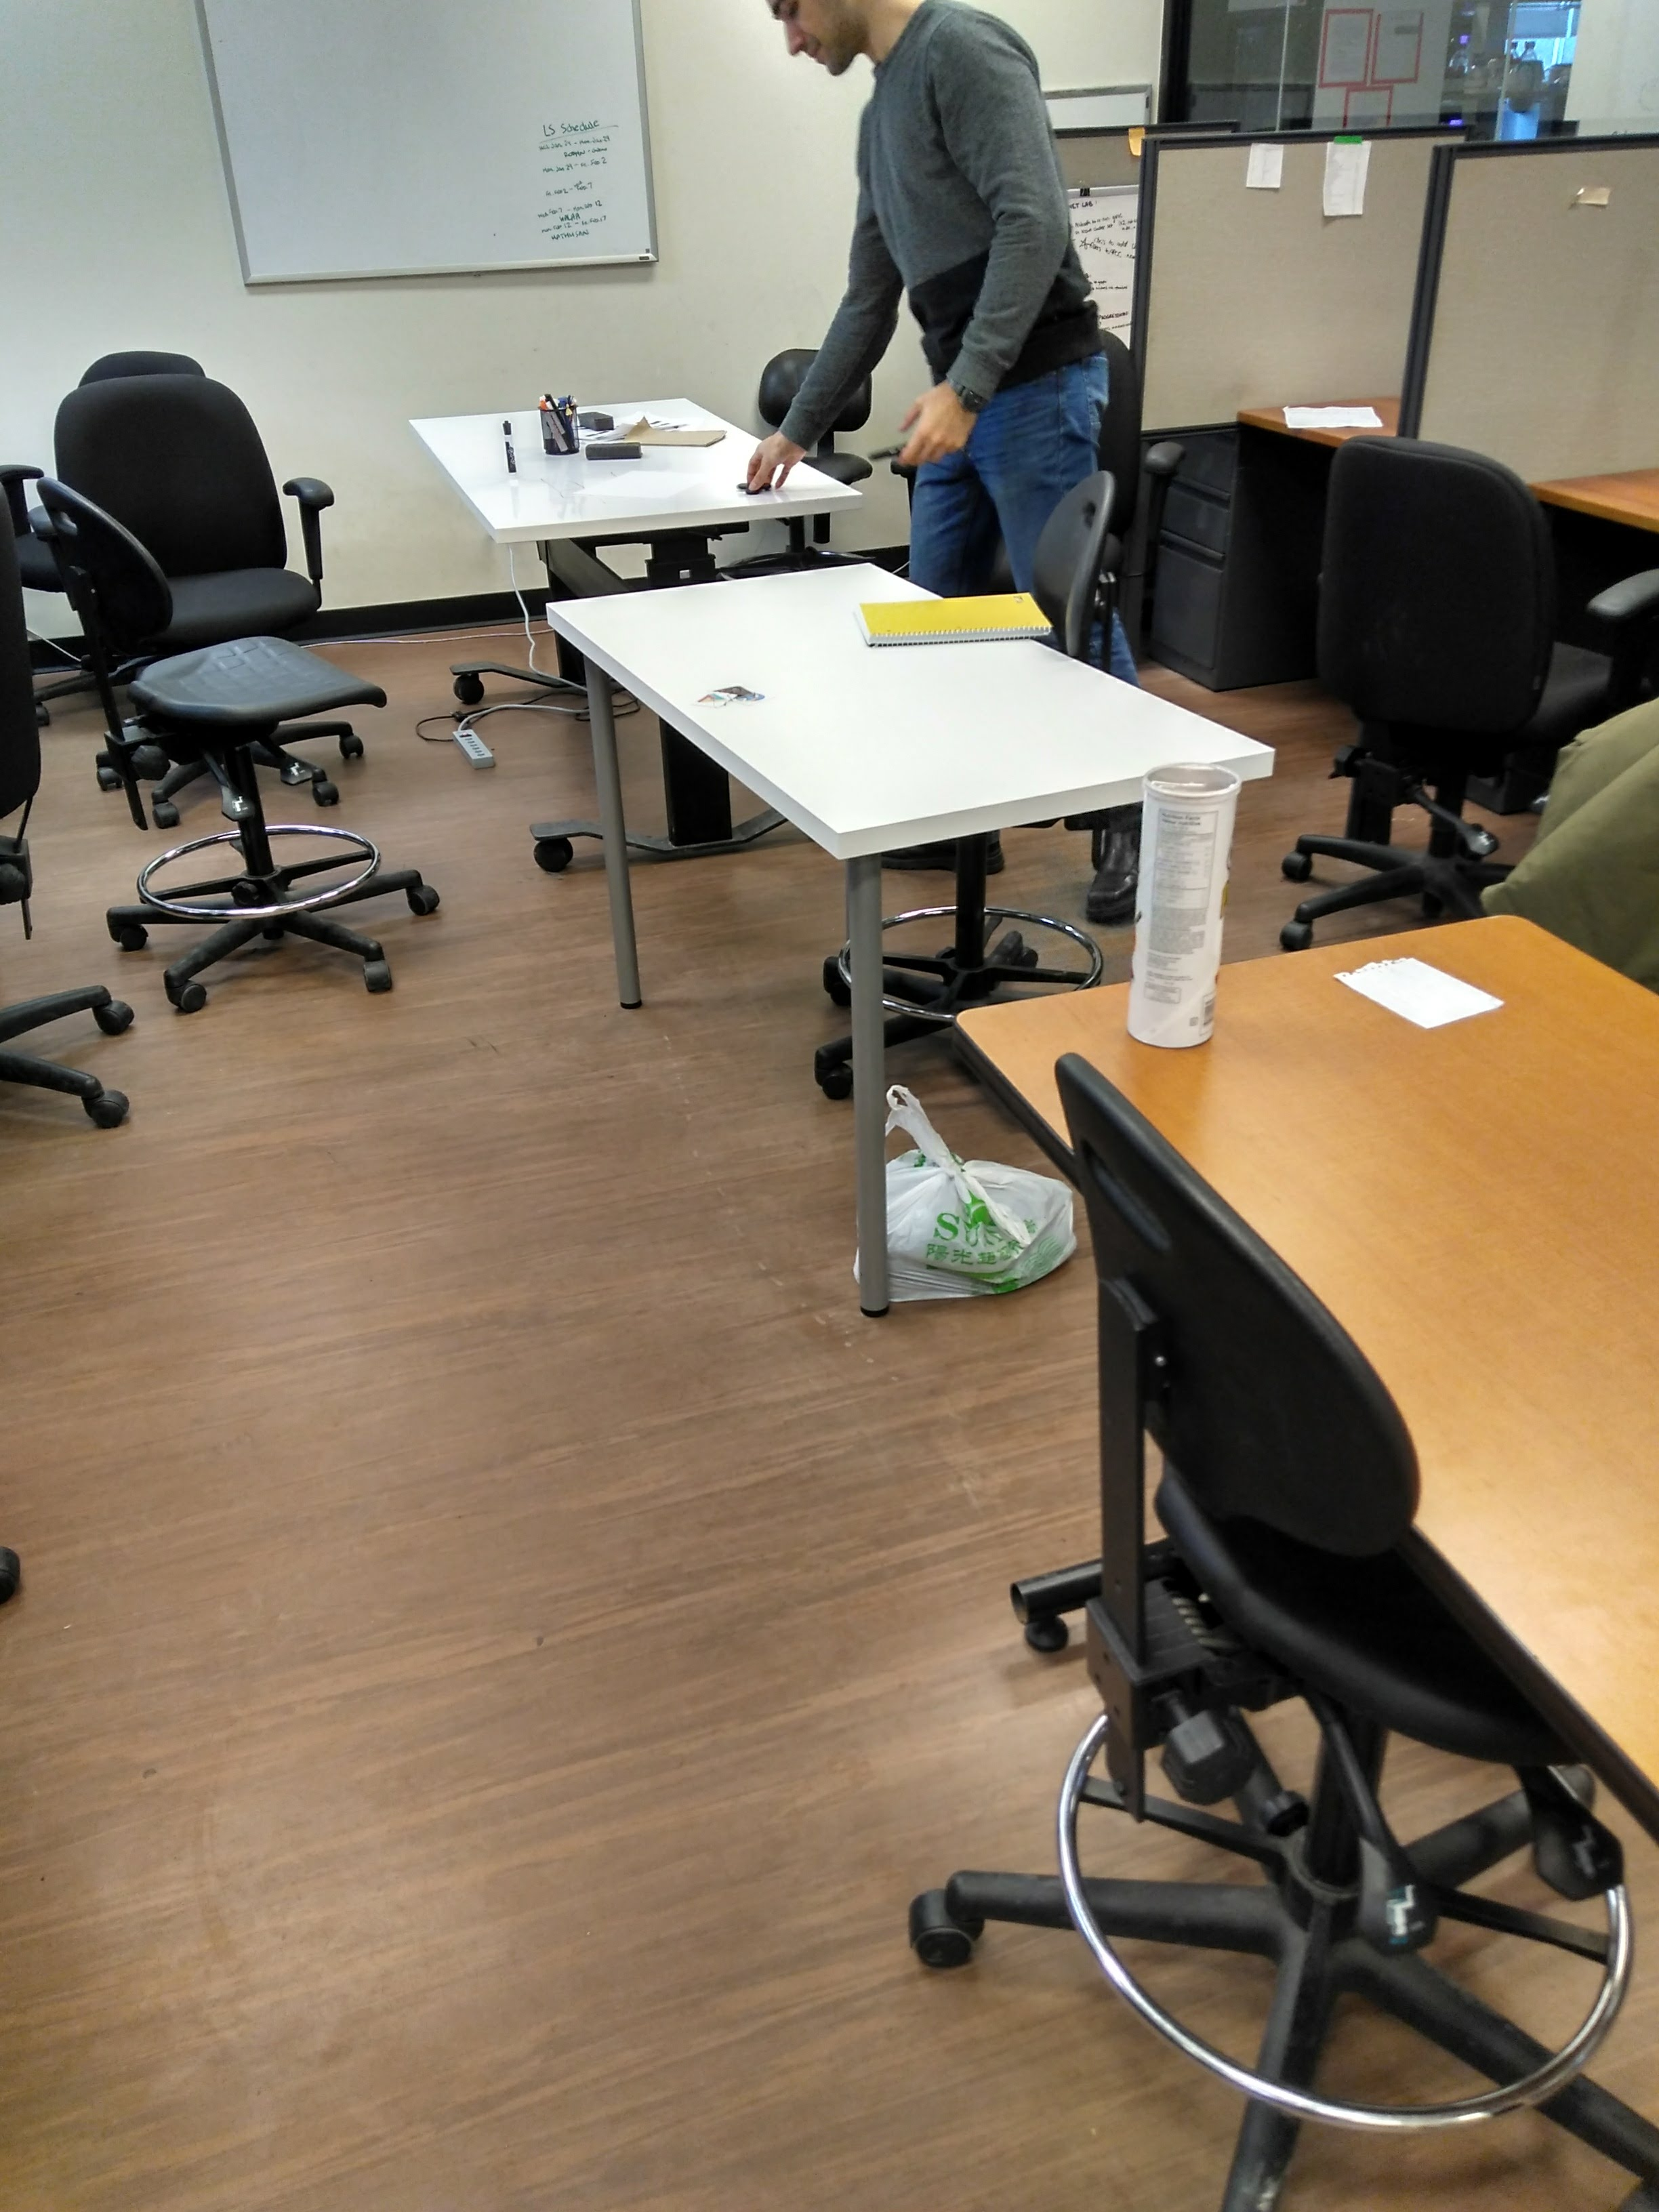pringles: (1119, 737, 1258, 1073)
